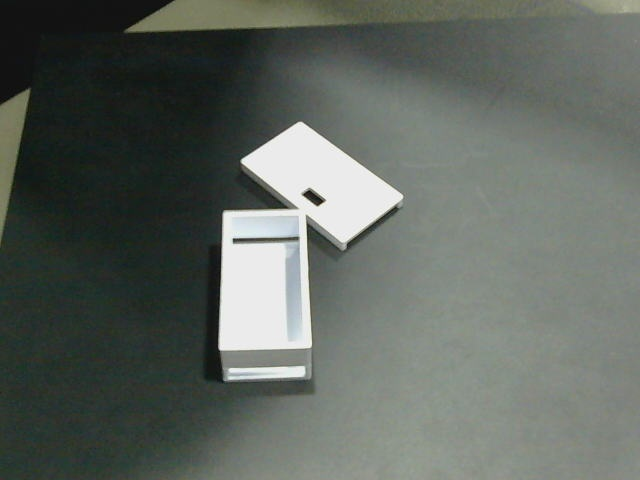enclosure_defective: (219, 122, 402, 351)
